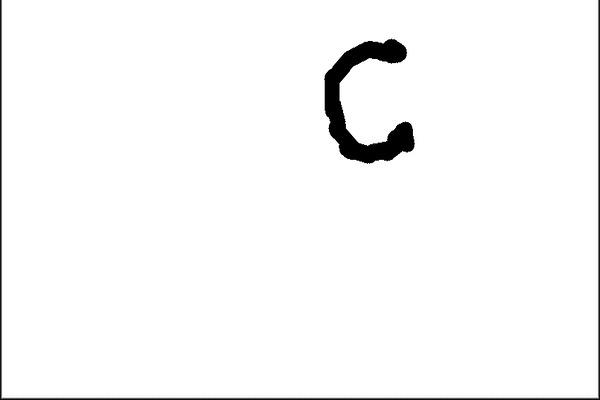C: (319, 32, 422, 165)
